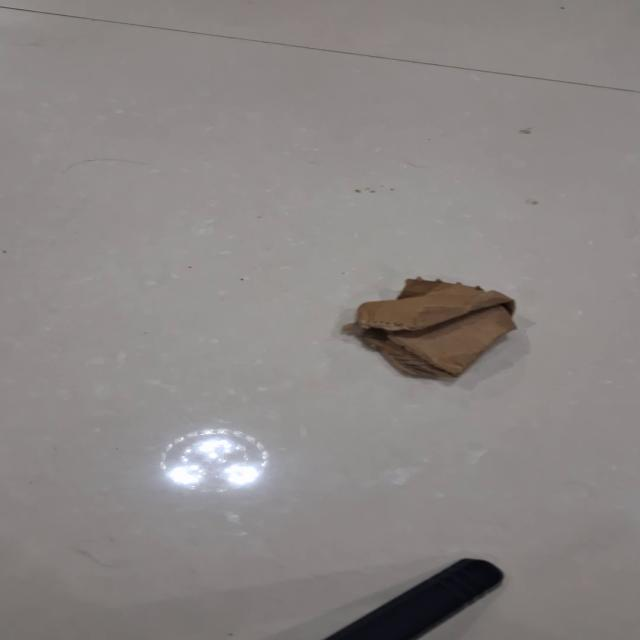paper: (341, 276, 518, 380)
